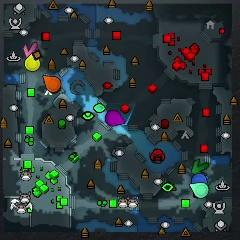p1: (192, 173, 208, 184)
p2: (189, 183, 209, 198)
p3: (106, 110, 125, 127)
p4: (25, 53, 40, 70)
p5: (43, 75, 61, 92)
x1: (23, 43, 38, 57)
x4: (192, 160, 209, 174)
